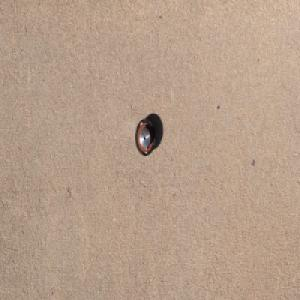FuelCap: (134, 116, 157, 157)
